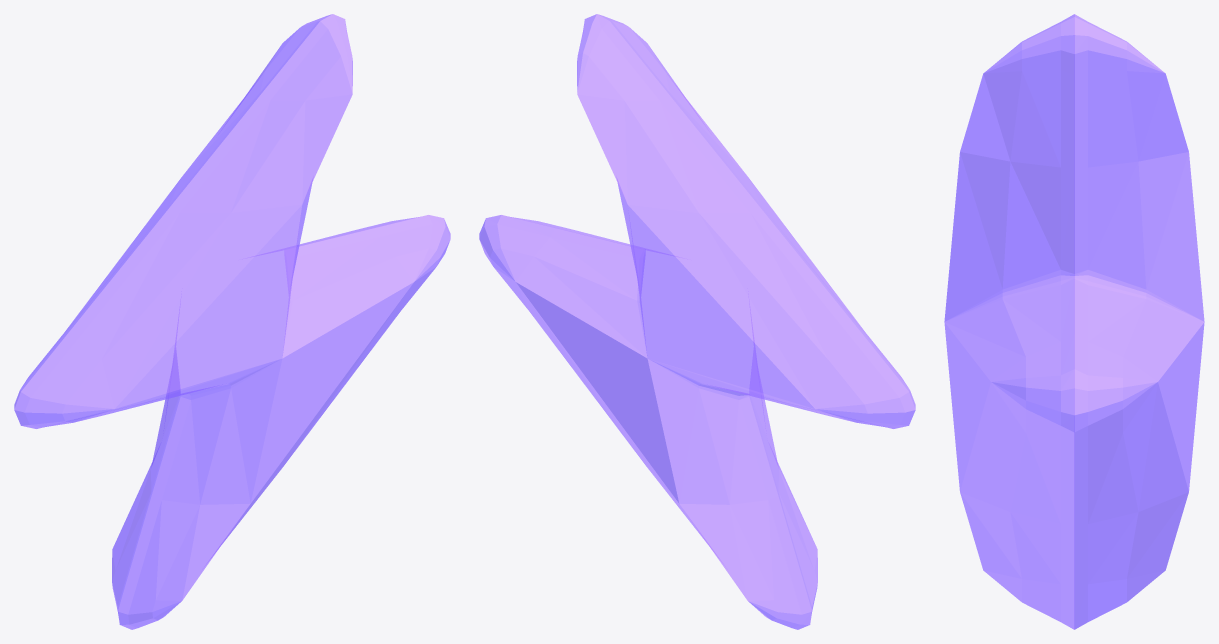
File: zular-bolt-v3a.glb
3 renders of one model, left to right at view 1: azimuth 30°, elevation 25°; view 2: azimuth 150°, elevation 25°; view 3: azimuth 270°, elevation 25°, orthographic. The views are drawn at different scales.
Parts seen in each view (by area): view 1: Bolt; view 2: Bolt; view 3: Bolt.
Boxes of the visible parts, left/top/right/bottom form: Bolt: left=14, top=14, right=450, bottom=629; Bolt: left=479, top=14, right=915, bottom=629; Bolt: left=944, top=14, right=1204, bottom=629.
Size of the model in its own units: 1.32 by 1.64 by 0.5234.
